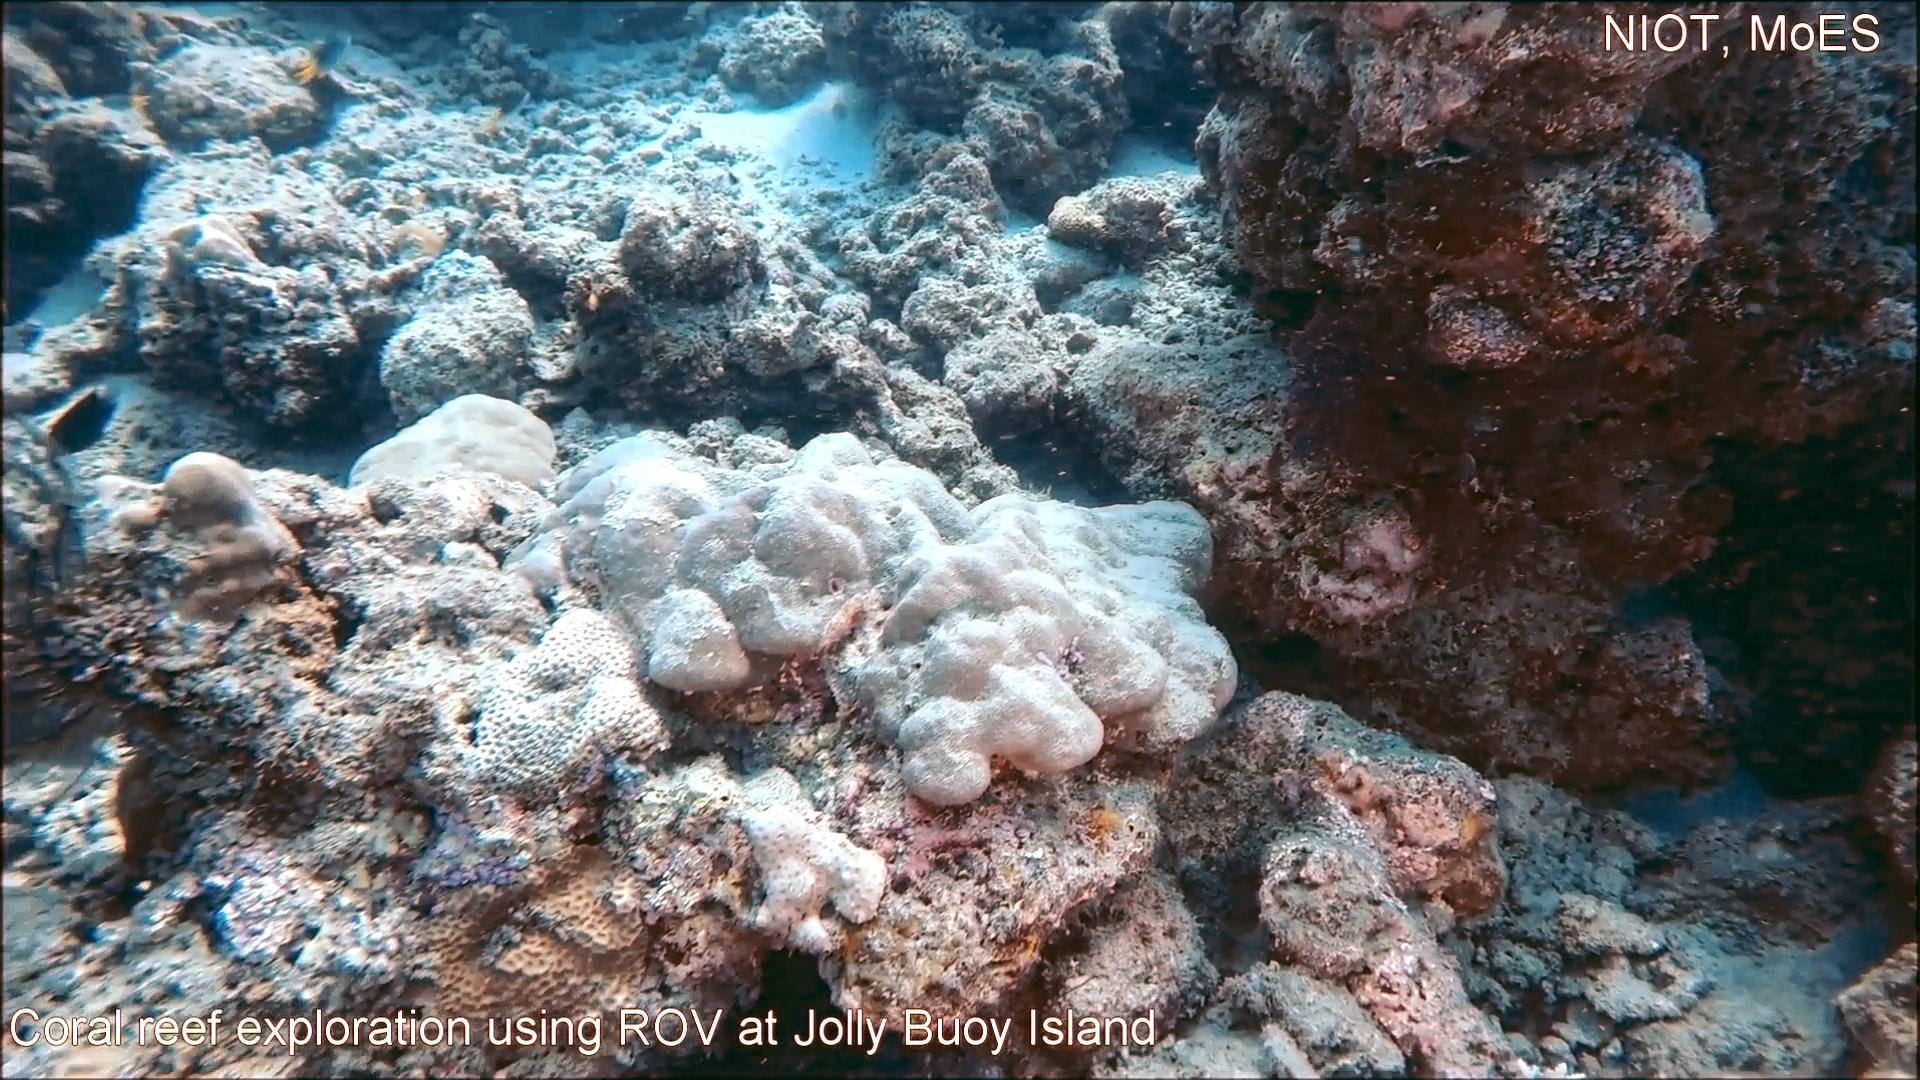Feather star-Crinoid star: (0, 376, 173, 866)
Goniastrea-Goniastrea pectinata: (465, 596, 682, 810)
Porites-Porites pukoensis: (746, 425, 1247, 814)
